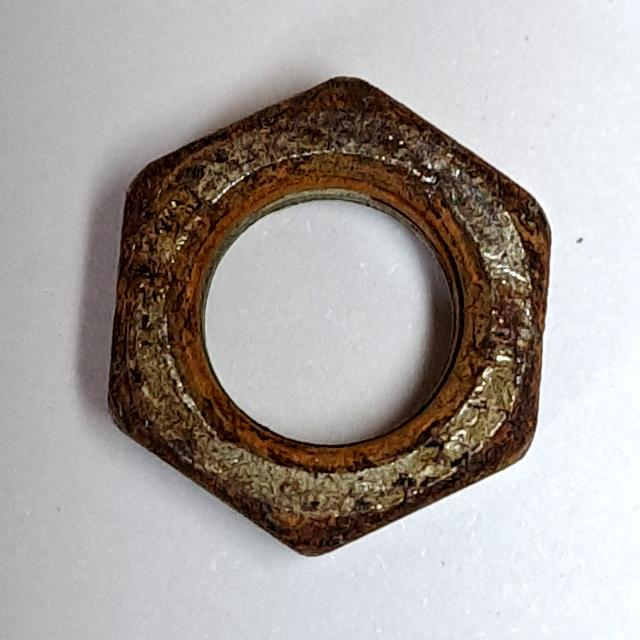Rust: (94, 68, 569, 570)
